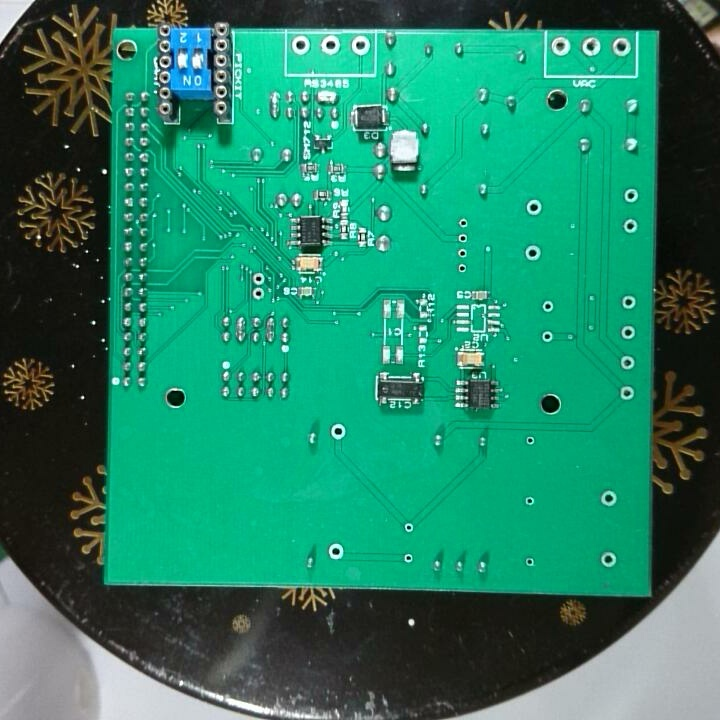F: (348, 34, 372, 58), (318, 32, 340, 58), (597, 486, 620, 510), (290, 34, 312, 58), (549, 36, 573, 58), (522, 243, 545, 265), (581, 36, 602, 59), (610, 36, 631, 58), (325, 541, 346, 563), (523, 197, 545, 218), (618, 322, 639, 343), (328, 420, 348, 442), (599, 549, 619, 570), (617, 383, 637, 403), (617, 353, 638, 372), (621, 215, 639, 236), (621, 186, 640, 205), (619, 294, 638, 313), (539, 328, 557, 346), (250, 286, 268, 303), (402, 517, 416, 538), (539, 298, 556, 315), (522, 492, 537, 510), (523, 553, 538, 570), (523, 431, 537, 449), (401, 550, 416, 566), (251, 270, 266, 286), (457, 215, 470, 231), (456, 230, 469, 246), (456, 245, 468, 260), (456, 262, 469, 274)
P: (311, 87, 341, 107), (267, 88, 283, 122), (262, 313, 277, 346), (233, 313, 248, 345)
